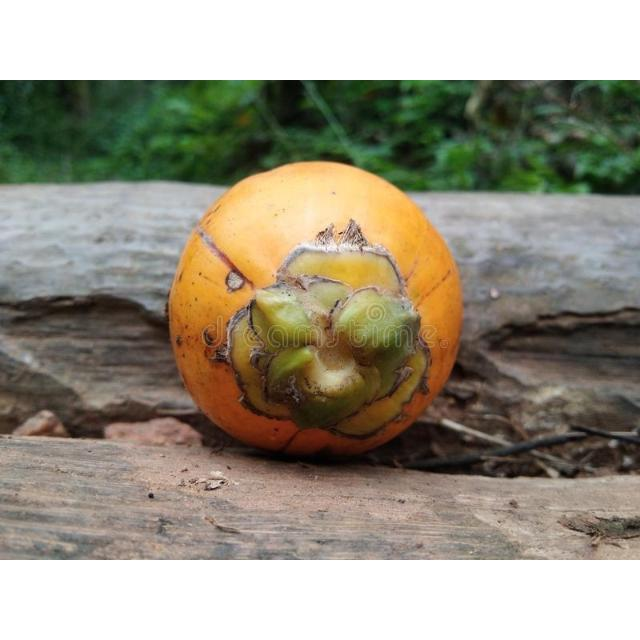good: (167, 162, 464, 464)
